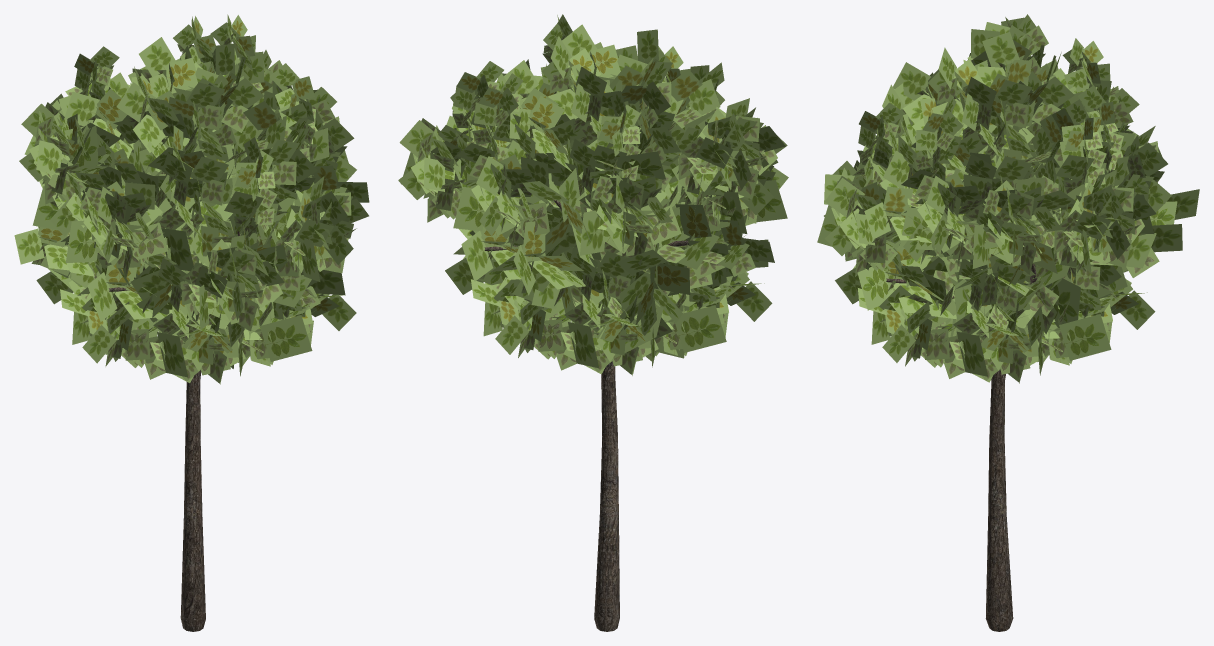
3 views of the same model, side by side, from view 1: azimuth 30°, elevation 25°; view 2: azimuth 150°, elevation 25°; view 3: azimuth 270°, elevation 25° (orthographic). The views are drawn at different scales.
Visible parts, largest first — view 1: tak_M_leaf_0, tak_M_bark_0; view 2: tak_M_leaf_0, tak_M_bark_0; view 3: tak_M_leaf_0, tak_M_bark_0.
Boxes of the visible parts, x1,y1,x2,y2 form: tak_M_leaf_0: (14,14,369,384); tak_M_bark_0: (109,231,240,631); tak_M_leaf_0: (398,14,788,375); tak_M_bark_0: (484,200,692,631); tak_M_leaf_0: (817,14,1199,383); tak_M_bark_0: (886,154,1125,631).
Bounding box in the file's own units: 25.99 × 43.63 × 26.56.
2 materials, 2 textured.
